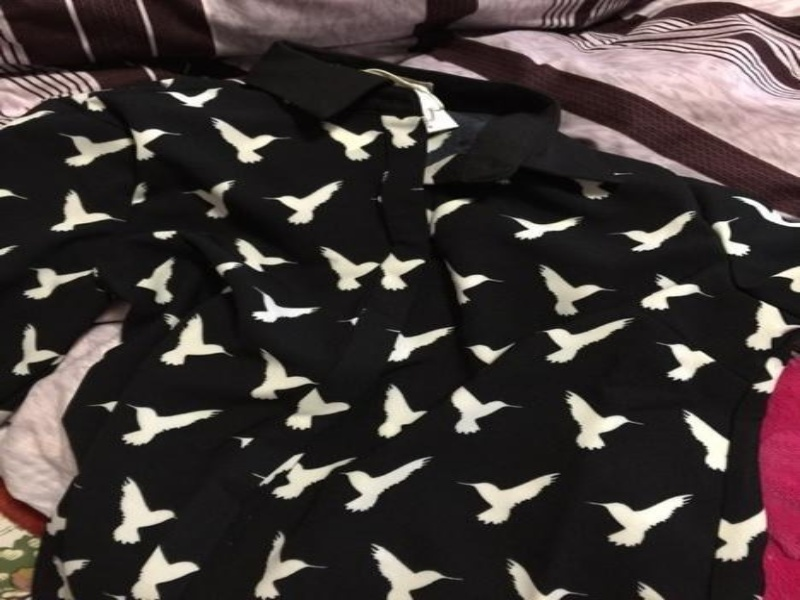long_sleeved_shirt: (2, 38, 797, 599)
